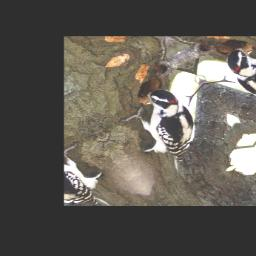Woodpecker: (110, 81, 219, 176)
